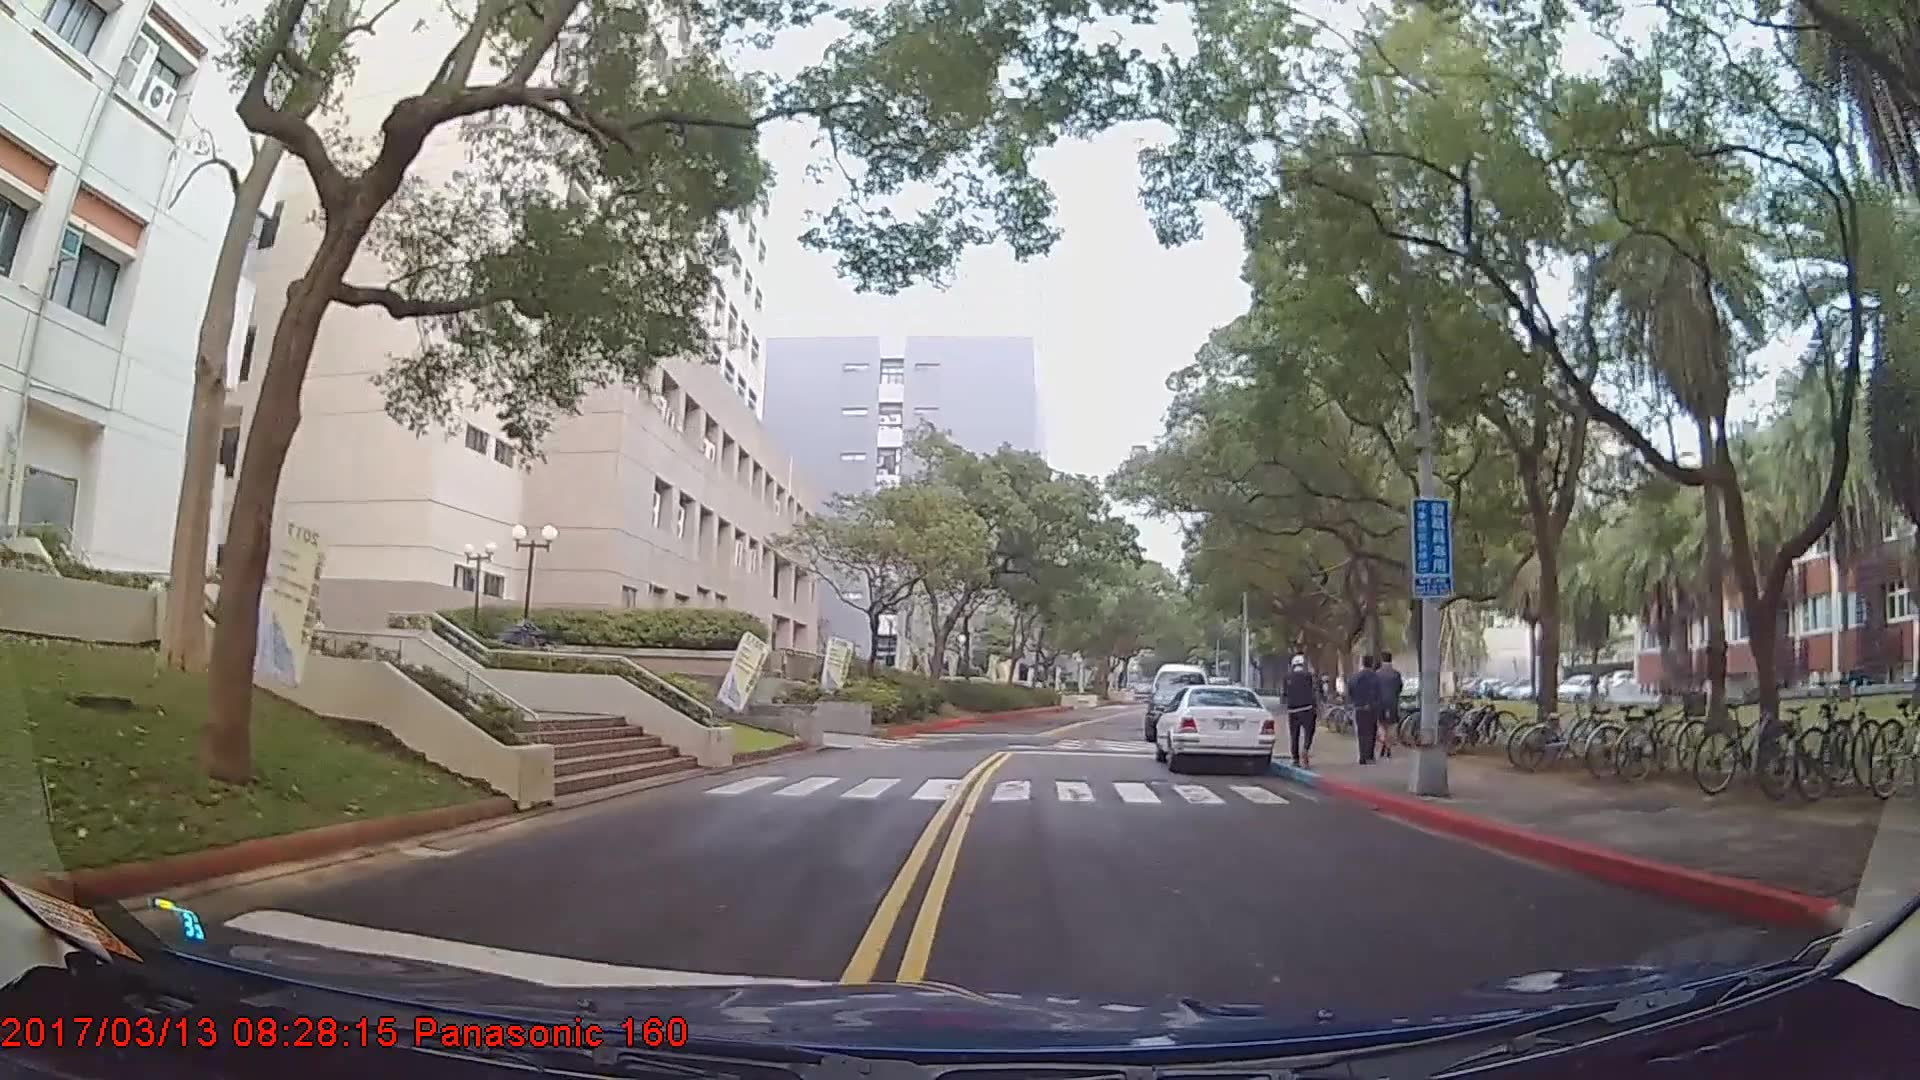pedestrian: (1353, 649, 1388, 767), (1288, 657, 1318, 769)
vehicle: (1152, 685, 1276, 775)
